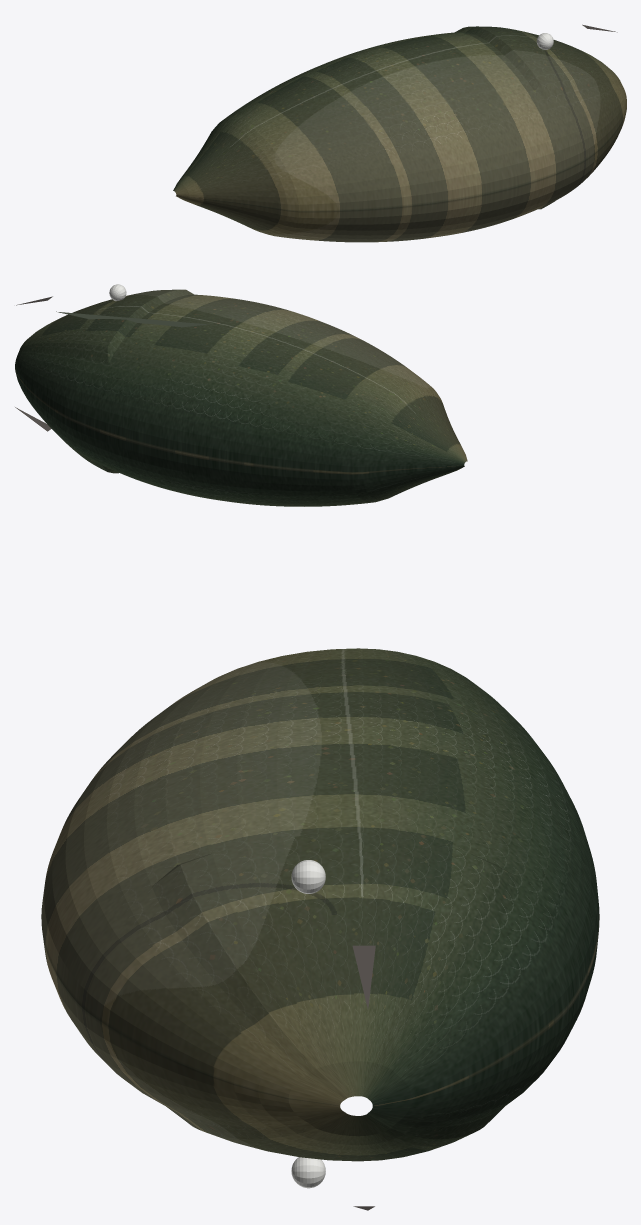
Rendered from tautog_blackfish_photoreal_style.glb.
The picture shows the model from 3 angles, top to bottom: view 1: azimuth 30°, elevation 25°; view 2: azimuth 150°, elevation 25°; view 3: azimuth 270°, elevation 25°; orthographic projection. The views are drawn at different scales.
Visible parts, largest first — view 1: body; view 2: body, pectoral_fin_1; view 3: body, world.
Boxes of the visible parts, x1=… form: body: x1=173, y1=26, x2=626, y2=242; body: x1=15, y1=289, x2=467, y2=506; pectoral_fin_1: x1=56, y1=311, x2=208, y2=327; body: x1=41, y1=648, x2=599, y2=1161; world: x1=291, y1=860, x2=325, y2=1188.
Size of the model in its own units: 3.25 by 1.01 by 1.39.
1 material, 1 textured.
